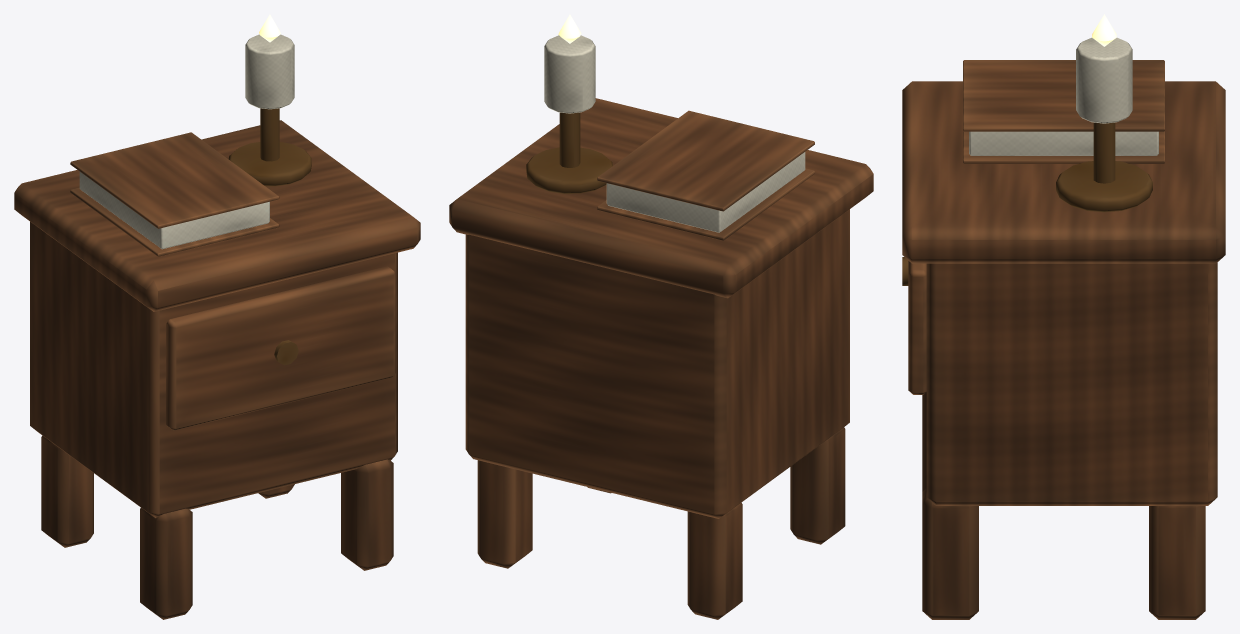
The model's file is Furn_NightStand.fbx.
The picture shows the model from 3 angles, left to right: view 1: azimuth 30°, elevation 25°; view 2: azimuth 150°, elevation 25°; view 3: azimuth 270°, elevation 25°; orthographic projection. The views are drawn at different scales.
Visible parts, largest first — view 1: Furn_NightStand; view 2: Furn_NightStand; view 3: Furn_NightStand.
Boxes of the visible parts, left/top/right/bottom form: Furn_NightStand: left=14, top=14, right=420, bottom=619; Furn_NightStand: left=449, top=14, right=873, bottom=619; Furn_NightStand: left=902, top=14, right=1225, bottom=619.
Bounding box in the file's own units: 0.45 × 0.795 × 0.4.
Materials: 4 (3 with a texture image).
